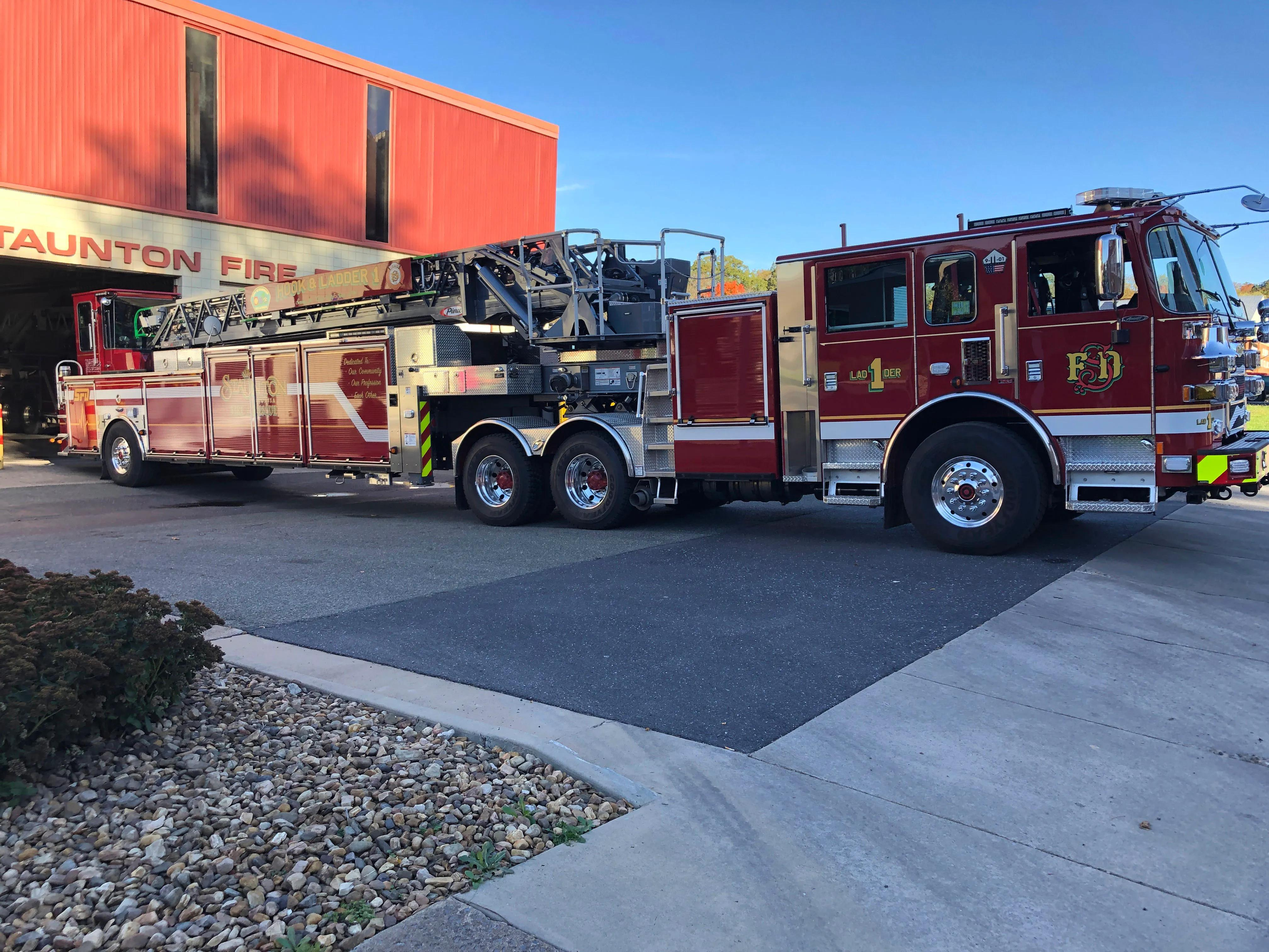Fire-engine: (228, 232, 1253, 546)
